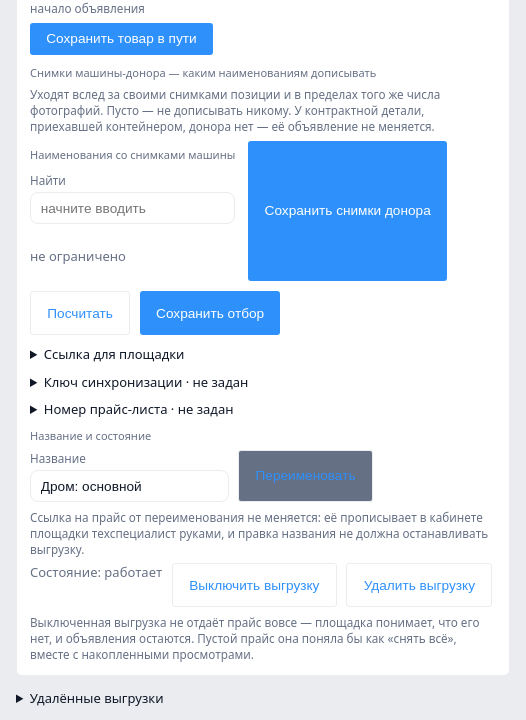
Scenario: выключение и удаление выгрузки › отмена подтверждения не удаляет ничего
(page scrolled)
Step 1. Click the button "Удалить выгрузку" → {"x": 419, "y": 585}, box left=346, top=563, right=492, bottom=607
(page scrolled)
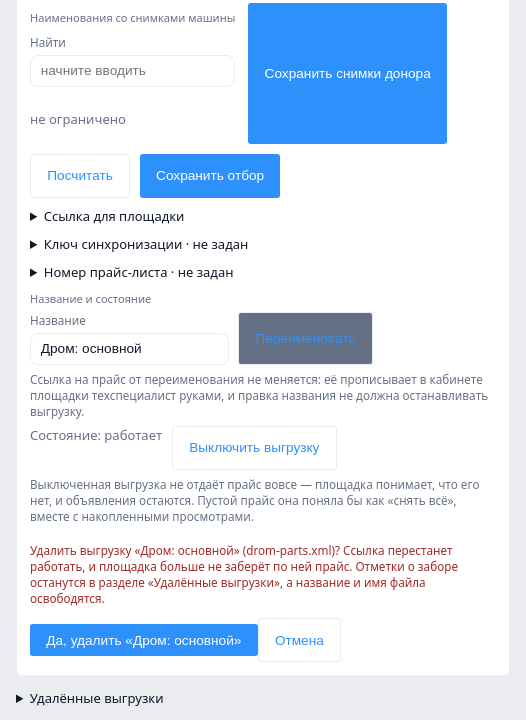
Step 2. Click the button "Отмена" → {"x": 299, "y": 640}, box left=258, top=618, right=341, bottom=662
(page scrolled)
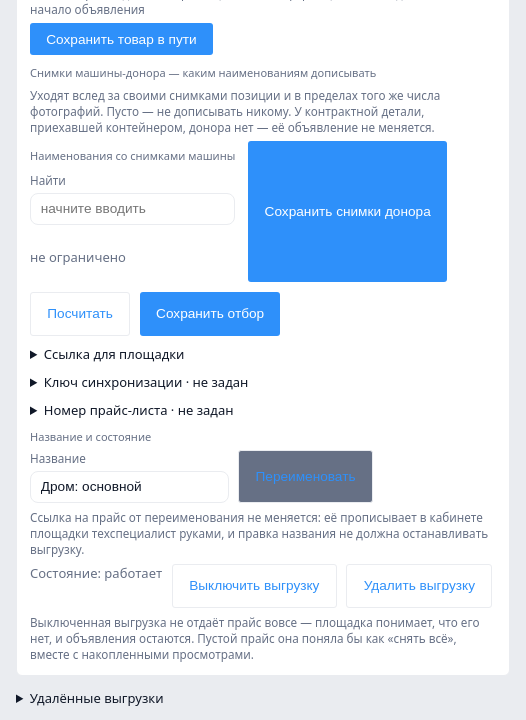
Now the button "Удалить выгрузку" is shown, box left=346, top=564, right=492, bottom=608
